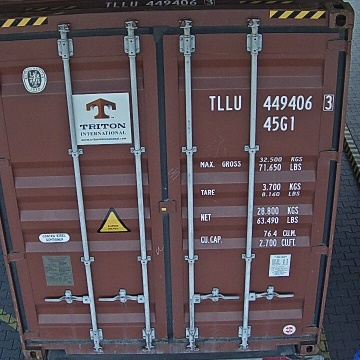serial_id: (209, 94, 333, 110)
